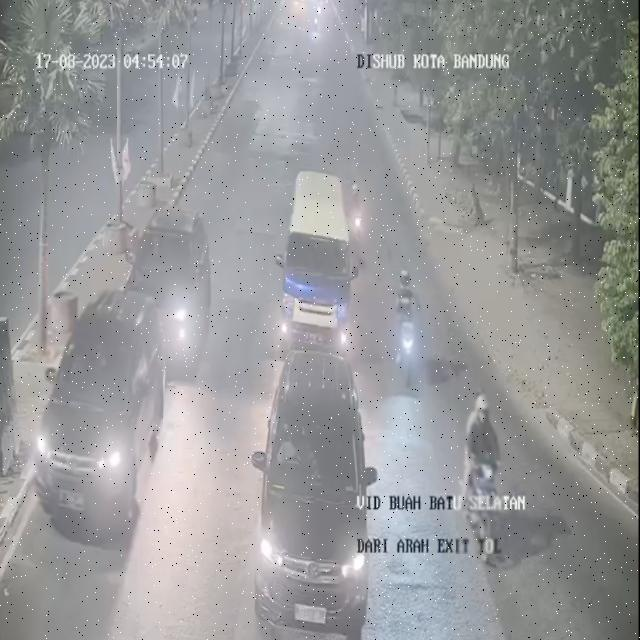cars: (240, 345, 367, 629), (28, 283, 163, 542), (280, 157, 352, 355), (133, 201, 208, 370)
motorcycle: (456, 377, 504, 554), (380, 271, 425, 388), (350, 178, 369, 272)
